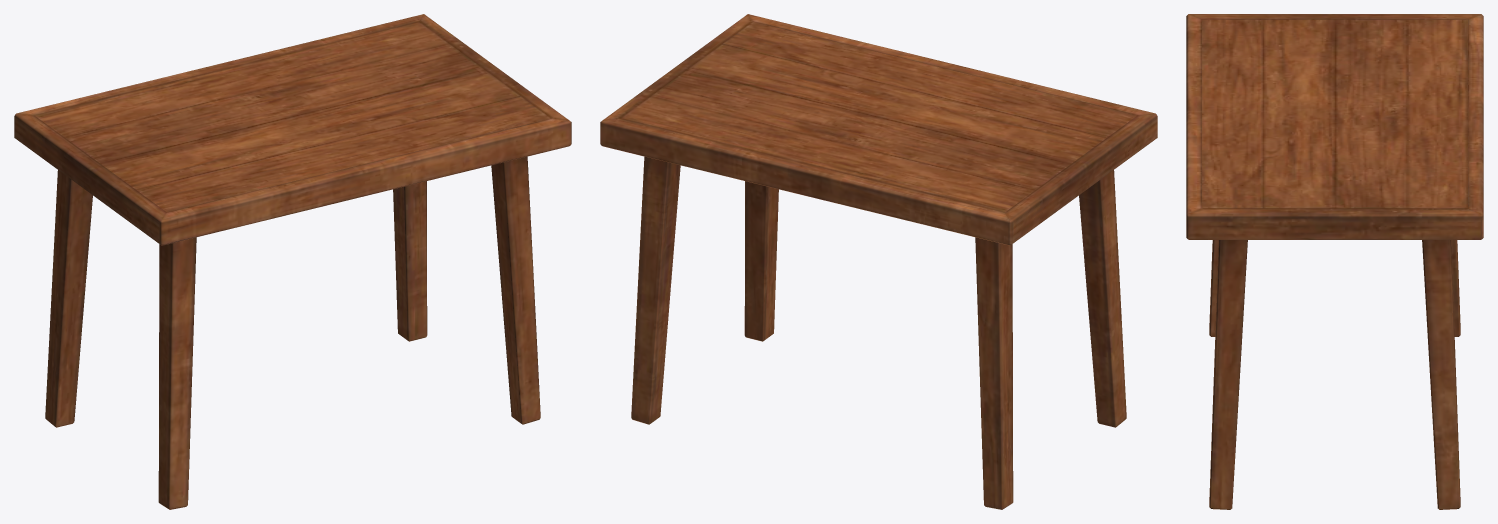
File: cafe_table.glb
3 views of the same model, side by side, from view 1: azimuth 30°, elevation 25°; view 2: azimuth 150°, elevation 25°; view 3: azimuth 270°, elevation 25° (orthographic).
Visible parts, largest first — view 1: cafe_table; view 2: cafe_table; view 3: cafe_table.
Boxes of the visible parts, x1=… form: cafe_table: x1=14, y1=14, x2=571, y2=509; cafe_table: x1=600, y1=14, x2=1157, y2=509; cafe_table: x1=1186, y1=14, x2=1483, y2=509.
Size of the model in its own units: 1.13 by 0.7995 by 0.7061.
Materials: 1 (1 with a texture image).
